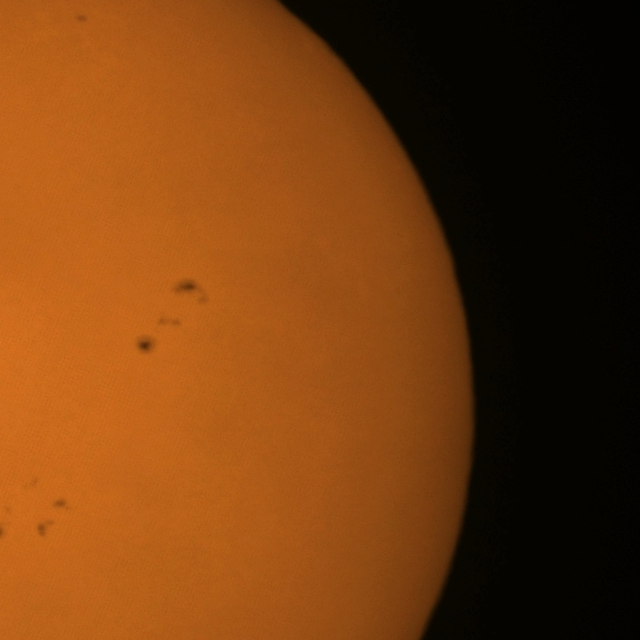sunspot: (35, 498, 69, 540), (35, 510, 57, 539), (135, 336, 155, 356), (74, 12, 88, 25)
